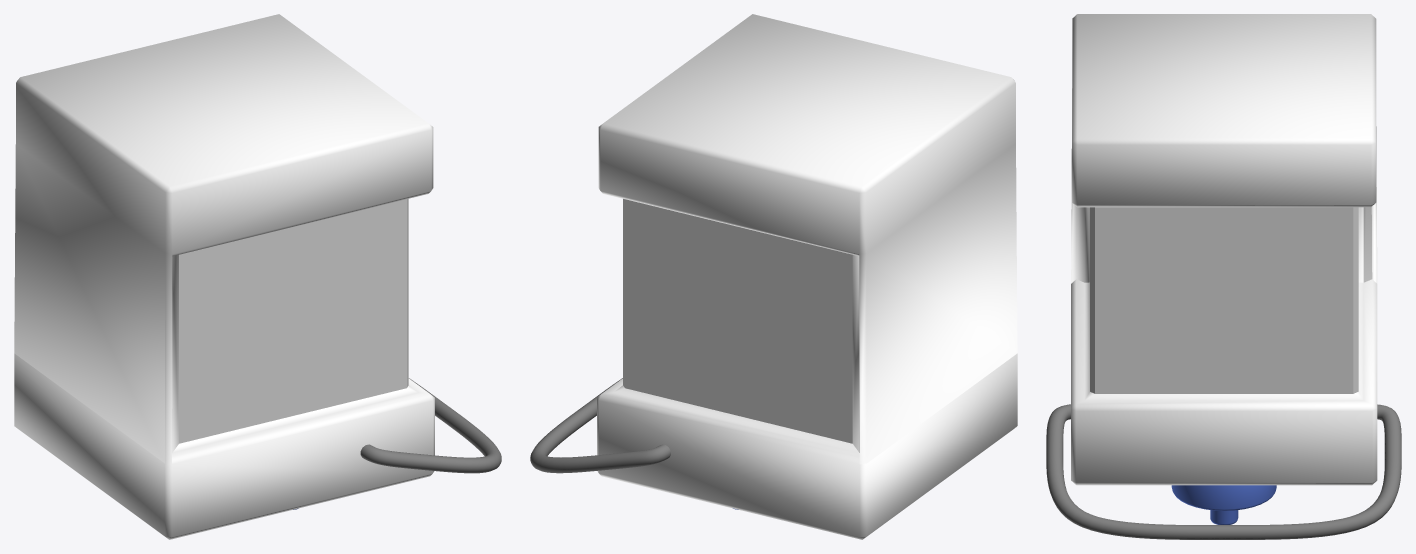
The model's file is SoapDispenser.fbx.
The picture shows the model from 3 angles, left to right: view 1: azimuth 30°, elevation 25°; view 2: azimuth 150°, elevation 25°; view 3: azimuth 270°, elevation 25°; orthographic projection.
Parts seen in each view (by area): view 1: MainHolder, Glass, SoapHandle; view 2: MainHolder, Glass, SoapHandle; view 3: MainHolder, Glass, SoapHandle, SoapNozzle.
Boxes of the visible parts, box(x1,y1,x2,y2) form: MainHolder: box(14, 14, 434, 539); Glass: box(179, 199, 408, 443); SoapHandle: box(360, 378, 501, 473); MainHolder: box(597, 14, 1017, 539); Glass: box(623, 199, 852, 443); SoapHandle: box(530, 378, 670, 473); MainHolder: box(1071, 14, 1377, 485); Glass: box(1090, 207, 1358, 393); SoapHandle: box(1046, 404, 1401, 539); SoapNozzle: box(1171, 485, 1276, 524).
Size of the model in its own units: 263 by 298 by 232.
